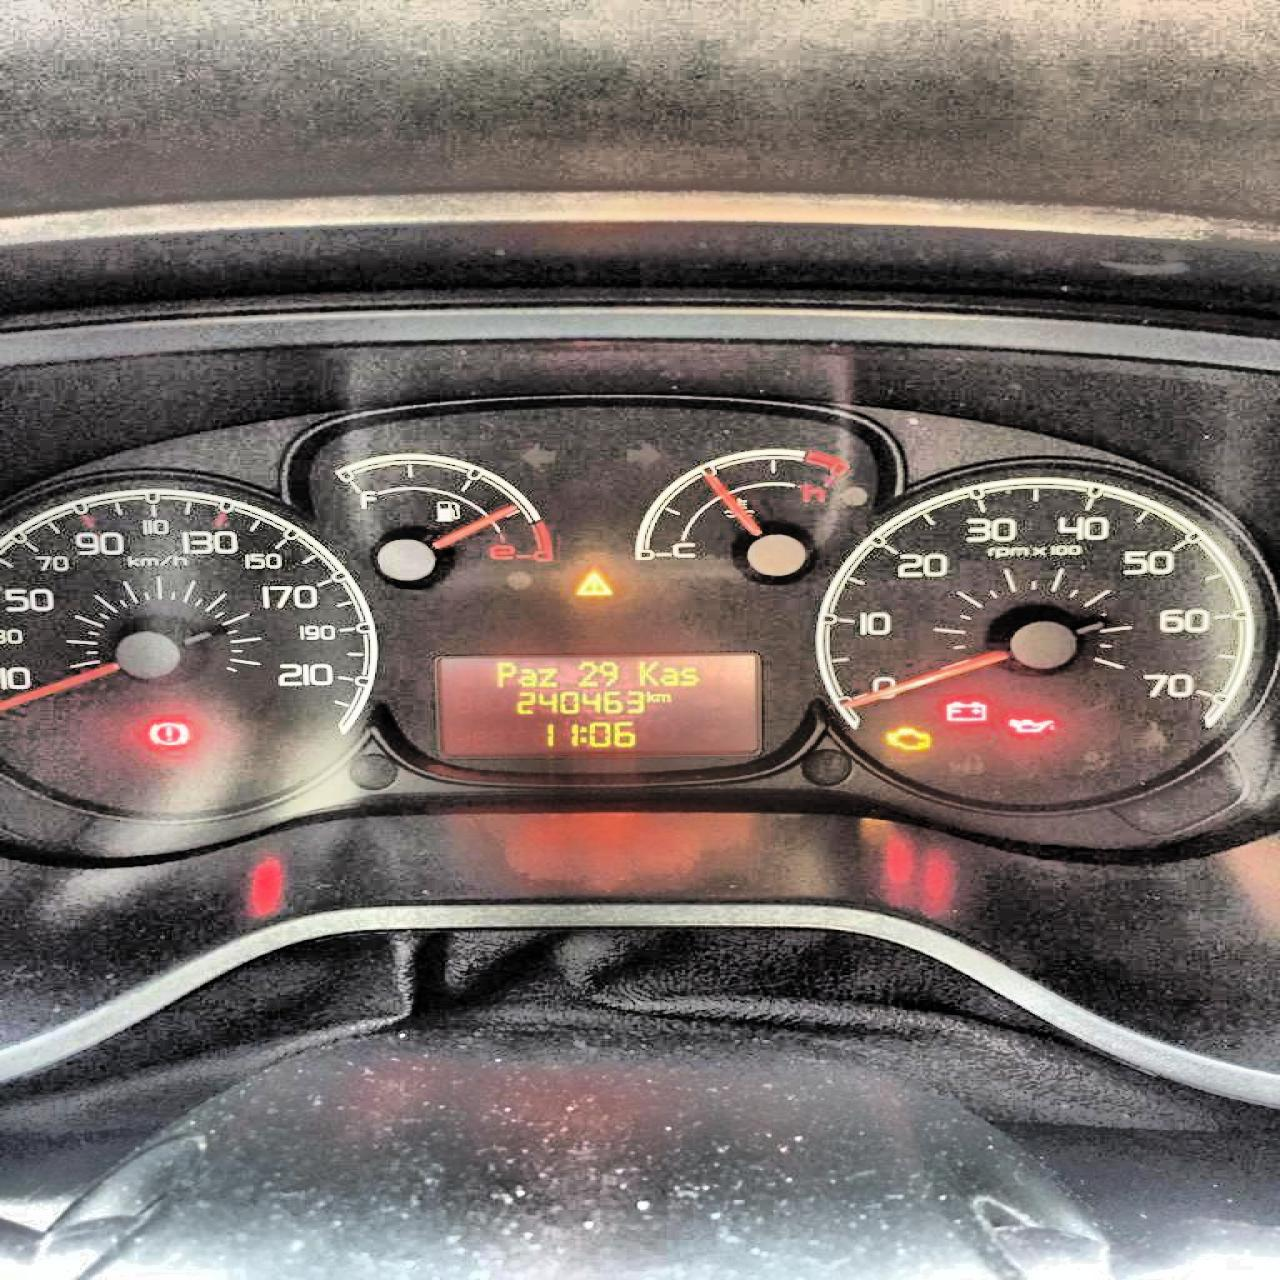0: (587, 720, 611, 748), (557, 688, 578, 714)
1: (543, 720, 554, 748), (568, 719, 577, 748)
2: (577, 659, 598, 686), (515, 690, 535, 715)
3: (625, 688, 644, 714)
4: (537, 689, 557, 713), (580, 692, 600, 713)
6: (612, 719, 636, 749), (601, 690, 624, 714)
9: (599, 659, 619, 685)
X: (493, 660, 515, 688), (636, 659, 656, 686), (537, 665, 557, 687), (517, 667, 537, 688), (679, 665, 699, 685), (659, 665, 676, 686), (653, 692, 672, 702), (578, 724, 585, 744), (645, 689, 653, 701)
odometer: (425, 644, 765, 758)
